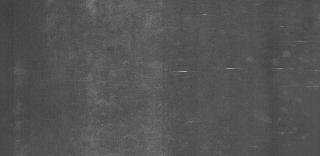scratches: (156, 47, 306, 90)
